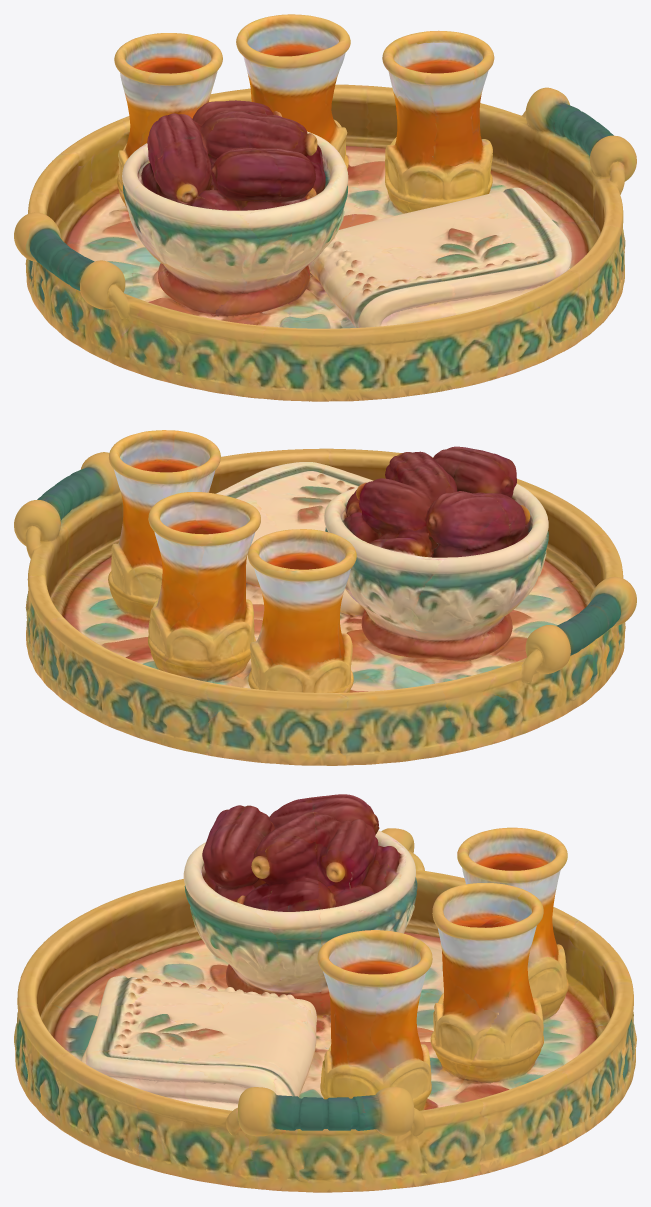
The model's file is Meshy_AI_model.glb.
3 renders of one model, top to bottom at view 1: azimuth 30°, elevation 25°; view 2: azimuth 150°, elevation 25°; view 3: azimuth 270°, elevation 25°, orthographic. The views are drawn at different scales.
Visible parts, largest first — view 1: mesh_node; view 2: mesh_node; view 3: mesh_node.
Part boxes in pixels (x1,y1,x2,y2): mesh_node: [14, 14, 636, 401]; mesh_node: [14, 430, 636, 765]; mesh_node: [14, 794, 636, 1192].
Size of the model in its own units: 1.9 by 0.6247 by 1.8.
1 material, 1 textured.
